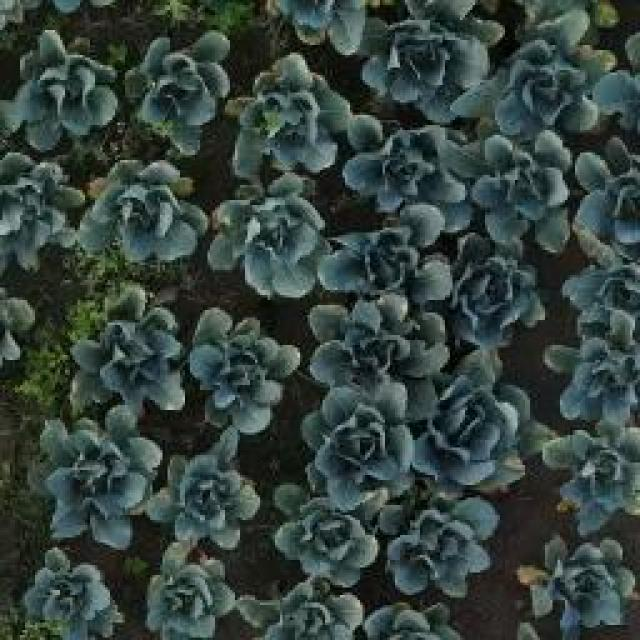cabbage: (462, 9, 621, 130), (35, 405, 162, 549), (413, 357, 531, 489), (232, 54, 355, 180), (70, 284, 187, 414), (207, 176, 329, 300), (80, 154, 210, 266), (304, 386, 417, 508), (189, 308, 301, 430), (465, 129, 574, 251), (150, 432, 260, 550), (361, 17, 488, 118), (9, 26, 119, 142), (307, 292, 448, 382), (323, 205, 455, 301), (443, 231, 548, 350), (127, 29, 232, 141), (272, 482, 385, 586), (345, 129, 469, 219), (387, 498, 500, 594), (531, 538, 638, 636), (543, 419, 640, 526), (0, 147, 80, 273), (547, 315, 640, 420), (20, 546, 116, 640), (567, 140, 640, 257), (240, 574, 364, 640), (140, 555, 232, 640), (561, 250, 640, 322)
